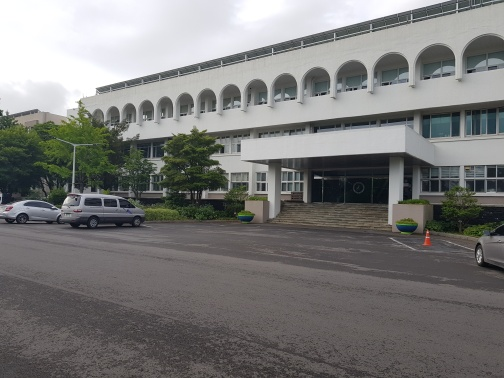Main Building of University: (82, 10, 500, 209), (232, 120, 438, 239), (154, 66, 332, 121), (368, 37, 504, 95)
